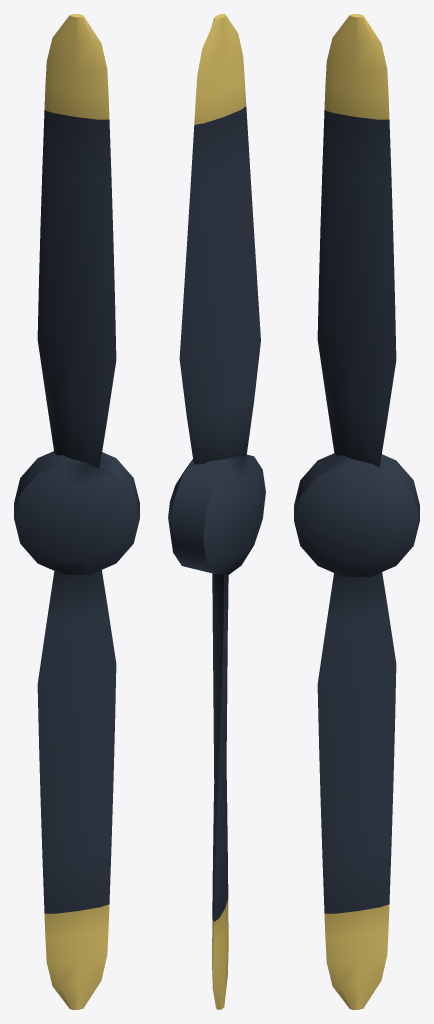
The model's file is propeller-blades.glb.
3 renders of one model, left to right at view 1: azimuth 90°, elevation 25°; view 2: azimuth 150°, elevation 25°; view 3: azimuth 270°, elevation 25°, orthographic.
Parts seen in each view (by area): view 1: dark, trim; view 2: dark, trim; view 3: dark, trim.
Part boxes in pixels (box(x1,y1,x2,y2)): dark: box(14, 110, 139, 913); trim: box(44, 14, 109, 1009); dark: box(168, 106, 265, 921); trim: box(194, 14, 246, 1009); dark: box(294, 110, 419, 913); trim: box(324, 14, 389, 1009).
Size of the model in its own units: 0.12 by 2 by 0.23.
